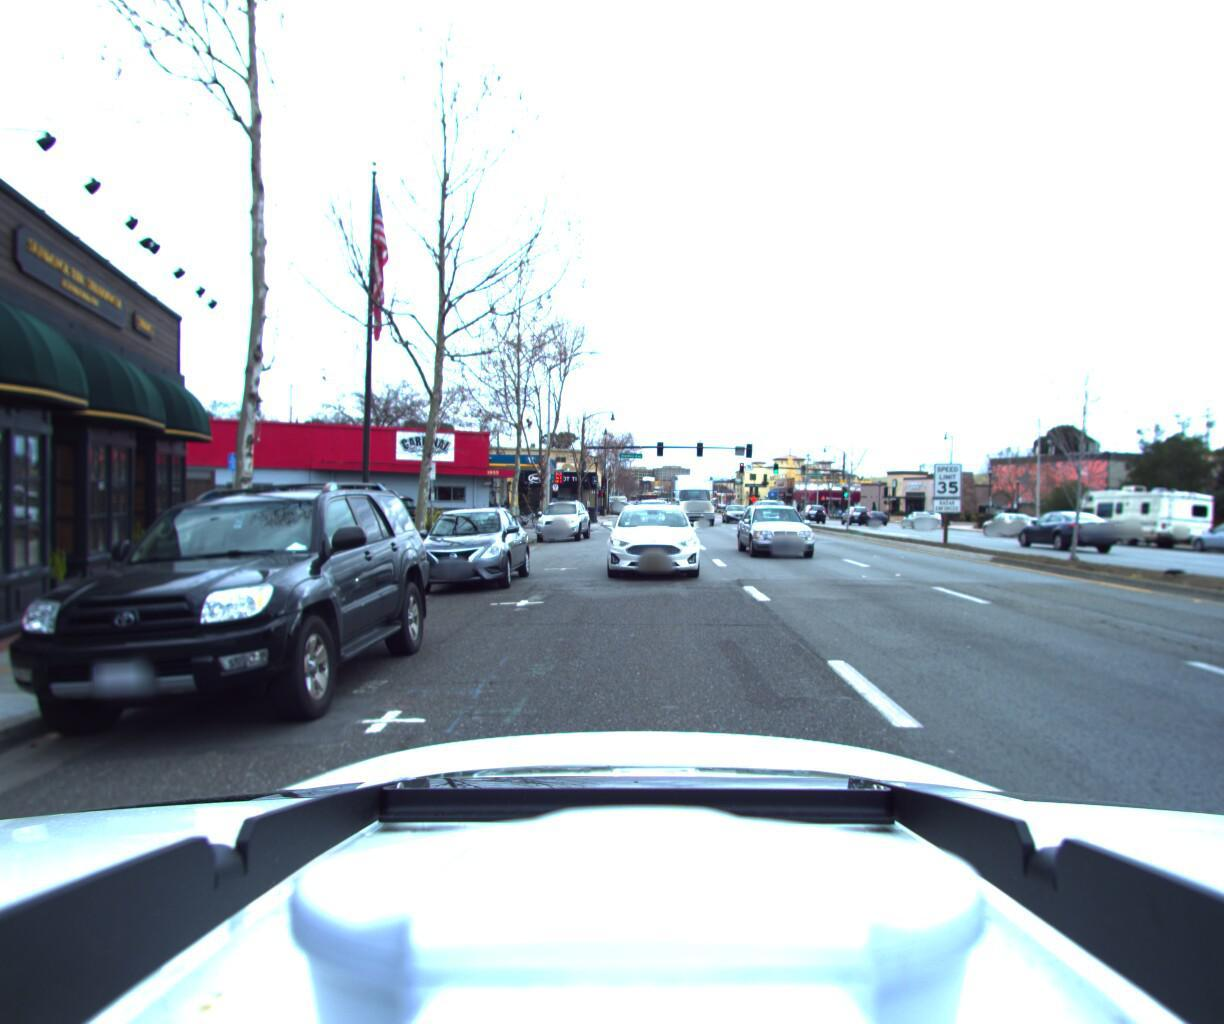bicycle: (513, 516, 534, 536)
car: (0, 459, 431, 768), (394, 507, 532, 602), (593, 504, 694, 592), (730, 508, 827, 576), (312, 495, 428, 550), (995, 511, 1107, 561), (525, 504, 589, 550), (1171, 524, 1224, 566), (975, 517, 1038, 546), (718, 507, 751, 533), (895, 517, 934, 536), (837, 511, 869, 533), (796, 509, 825, 531), (855, 516, 885, 533)
other_vehicle: (1061, 488, 1217, 558)
truck: (661, 480, 719, 539)
